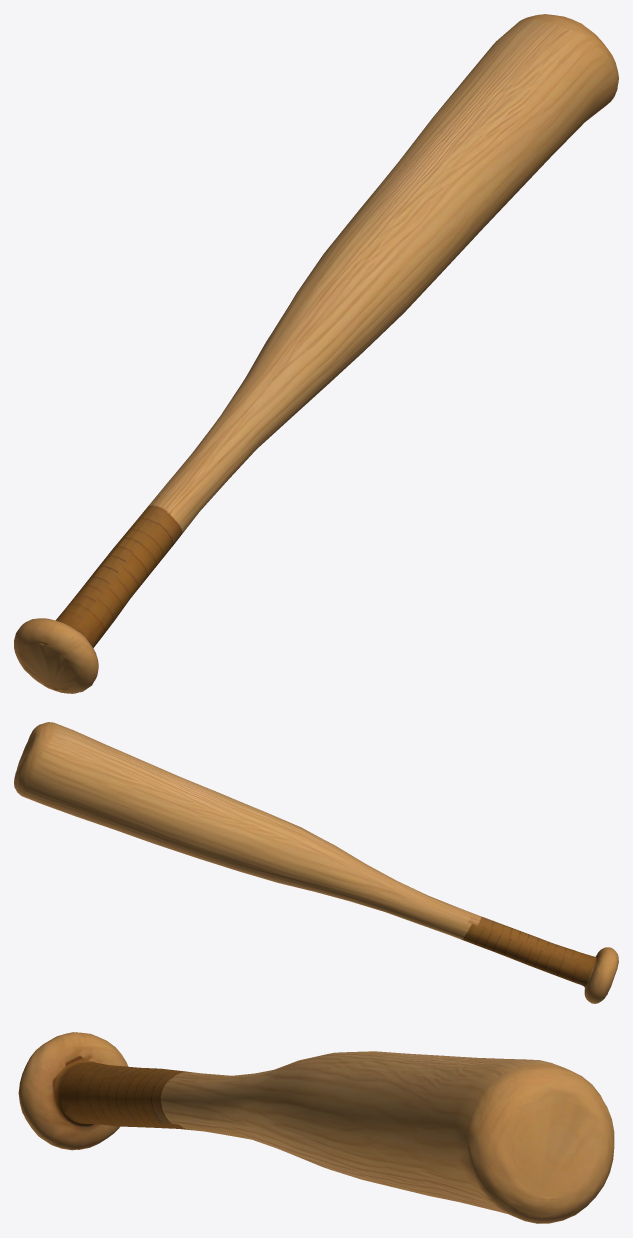
File: Weapons__baseball_bat_0ff8246f_v1.cluster.glb
3 views of the same model, one above another, from view 1: azimuth 30°, elevation 25°; view 2: azimuth 150°, elevation 25°; view 3: azimuth 270°, elevation 25° (orthographic). The views are drawn at different scales.
Parts seen in each view (by area): view 1: texture_pbr_20250901; view 2: texture_pbr_20250901; view 3: texture_pbr_20250901.
Boxes of the visible parts, x1,y1,x2,y2 form: texture_pbr_20250901: [14, 14, 618, 693]; texture_pbr_20250901: [14, 722, 618, 1003]; texture_pbr_20250901: [18, 1032, 614, 1223].
Bounding box in the file's own units: 1.9 × 0.9277 × 1.
1 material, 1 textured.
